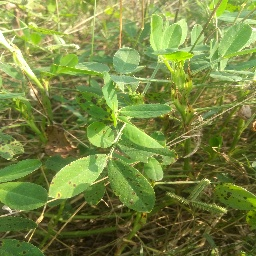GroundNut_Leaf: (111, 160, 157, 212), (50, 154, 106, 196), (1, 183, 48, 211), (219, 21, 253, 59), (74, 90, 112, 124), (150, 13, 182, 53), (215, 182, 256, 212), (127, 123, 167, 149), (115, 102, 172, 119), (1, 159, 40, 180), (112, 46, 141, 74), (1, 216, 38, 235), (87, 121, 114, 147), (1, 135, 25, 160), (189, 23, 205, 47)
